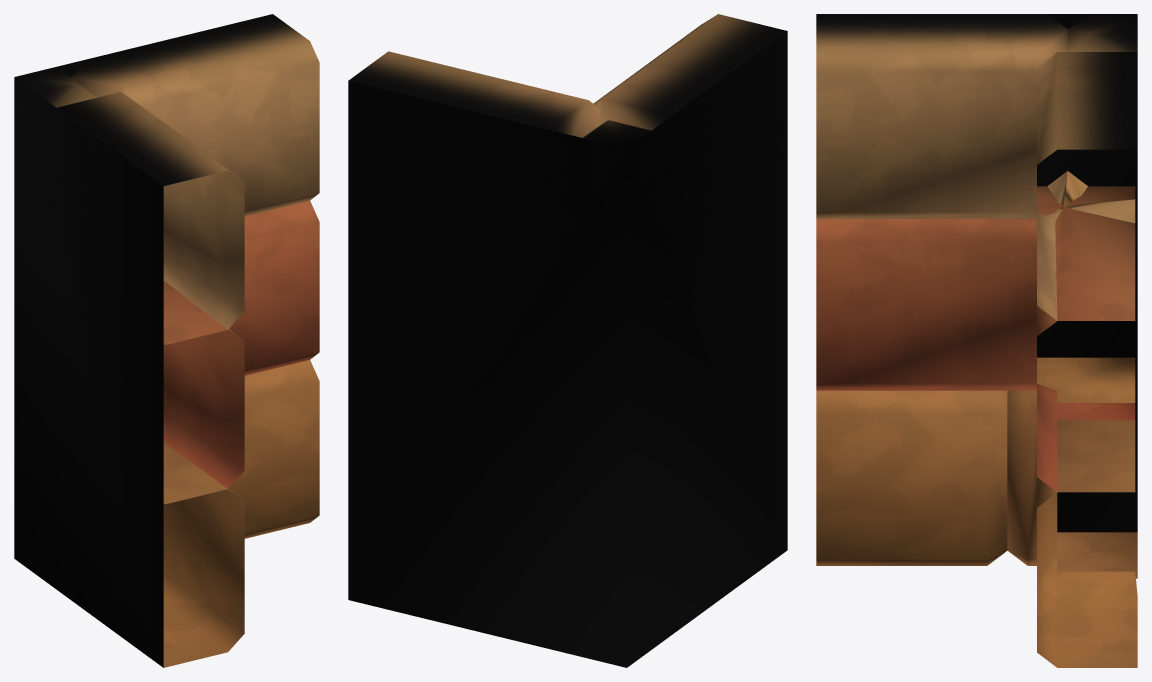
File: Mur_CoinA.FBX
3 views of the same model, side by side, from view 1: azimuth 30°, elevation 25°; view 2: azimuth 150°, elevation 25°; view 3: azimuth 270°, elevation 25° (orthographic). The views are drawn at different scales.
Visible parts, largest first — view 1: Mur_CoinA; view 2: Mur_CoinA; view 3: Mur_CoinA.
Part boxes in pixels (box(x1,y1,x2,y2)): Mur_CoinA: box(14, 14, 319, 667); Mur_CoinA: box(348, 14, 787, 667); Mur_CoinA: box(816, 14, 1137, 667).
Bounding box in the file's own units: 1.25 × 2.23 × 1.25.
